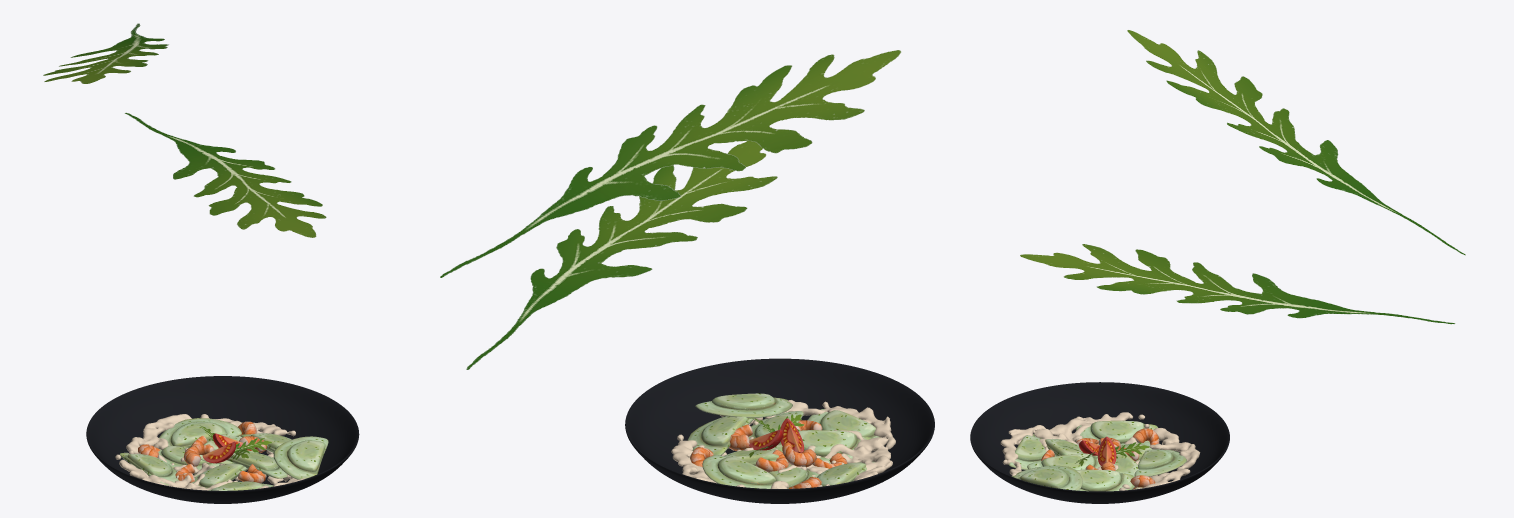
The model's file is shrimp-ravioli.glb.
The picture shows the model from 3 angles, left to right: view 1: azimuth 30°, elevation 25°; view 2: azimuth 150°, elevation 25°; view 3: azimuth 270°, elevation 25°; orthographic projection. The views are drawn at different scales.
Visible parts, largest first — view 1: bowl, branch1, sauce, branch2, ravioli.008, ravioli.007, ravioli.001, ravioli.004, ravioli.003, ravioli, tomatoSlice.001, shrimp (+1 smaller); view 2: bowl, branch2, branch1, sauce, ravioli.008, ravioli.007, ravioli.006, ravioli.003, ravioli.002, ravioli.001, ravioli.004; view 3: bowl, branch1, branch2, sauce, ravioli.008, ravioli.001, ravioli.006, ravioli.007, ravioli.004, ravioli.002.
Part boxes in pixels (x1,y1,x2,y2): bowl: [86, 376, 359, 503]; branch1: [124, 112, 326, 237]; sauce: [115, 414, 305, 490]; branch2: [43, 23, 168, 83]; ravioli.008: [273, 436, 328, 479]; ravioli.007: [159, 418, 241, 447]; ravioli.001: [120, 452, 178, 485]; ravioli.004: [226, 451, 287, 478]; ravioli.003: [191, 463, 247, 490]; ravioli: [158, 446, 219, 469]; tomatoSlice.001: [202, 441, 235, 463]; shrimp: [183, 445, 214, 466]; bowl: [625, 358, 934, 503]; branch2: [440, 50, 901, 277]; branch1: [466, 141, 777, 369]; sauce: [671, 400, 895, 488]; ravioli.008: [695, 393, 792, 417]; ravioli.007: [702, 455, 776, 488]; ravioli.006: [687, 416, 754, 455]; ravioli.003: [798, 430, 871, 463]; ravioli.002: [808, 409, 879, 438]; ravioli.001: [817, 461, 875, 486]; ravioli.004: [748, 411, 803, 451]; bowl: [970, 382, 1229, 503]; branch1: [1020, 244, 1455, 324]; branch2: [1127, 30, 1465, 255]; sauce: [1000, 412, 1200, 490]; ravioli.008: [1012, 465, 1082, 490]; ravioli.001: [1076, 420, 1157, 443]; ravioli.006: [1076, 469, 1134, 491]; ravioli.007: [1134, 449, 1186, 476]; ravioli.004: [1027, 453, 1100, 469]; ravioli.002: [1008, 434, 1055, 469].
Bounding box in the file's own units: 37.35 × 44.21 × 53.3.
Materials: 6 (4 with a texture image).
